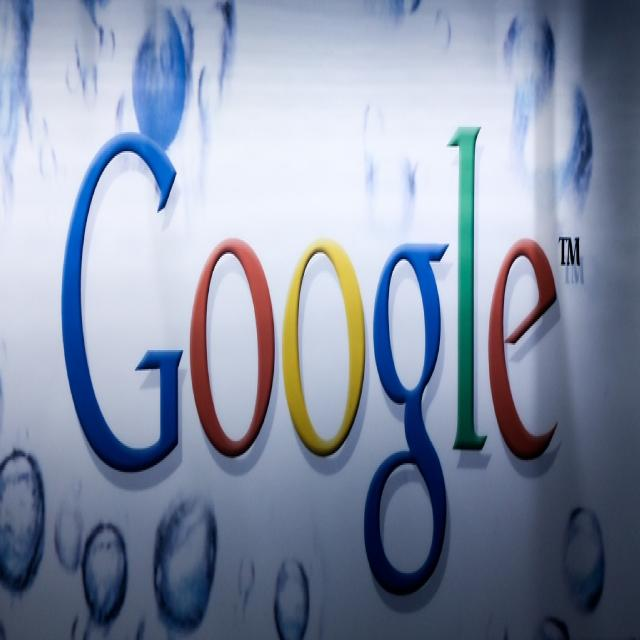google: (58, 104, 577, 615)
